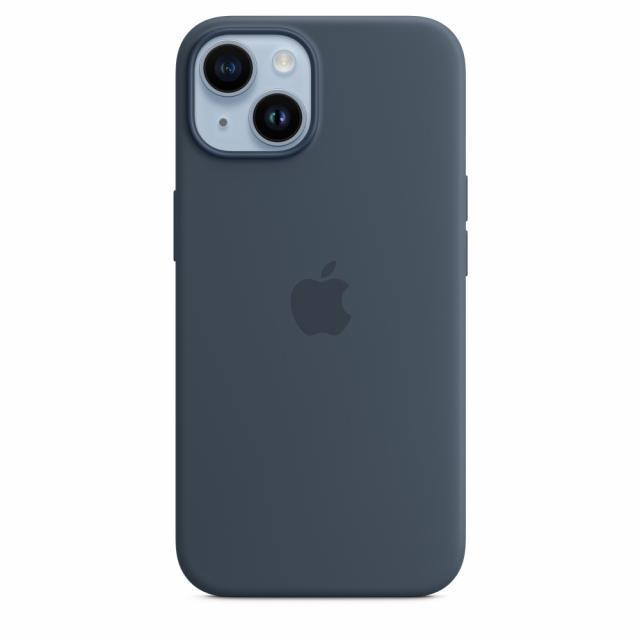phone: (173, 13, 470, 598)
